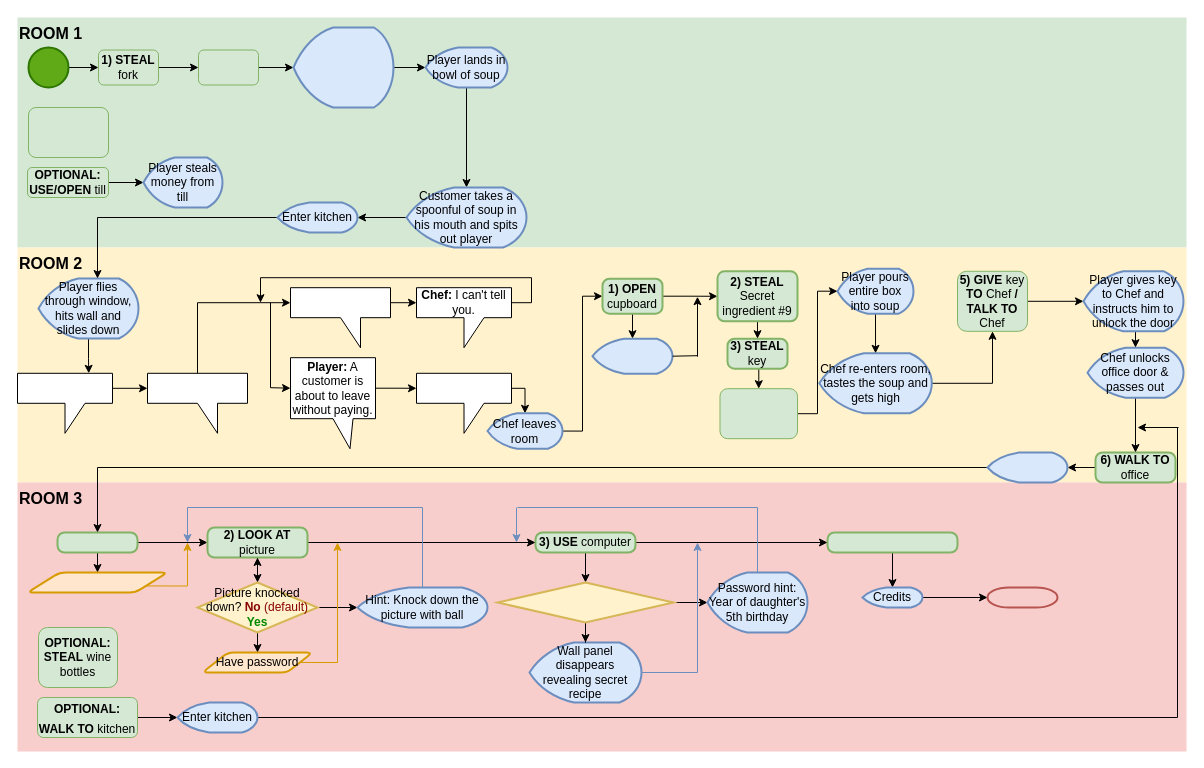
This 1204x768 diagram has some shape labels left out. Each missing label, with the centre of its shape:
"1) USE ball" belongs at [97,542].
"2) USE fork" belongs at [228,67].
"4) STEAL secret recipe" belongs at [892,542].
"4) USE secret ingredient WITH soup" belongs at [758,413].
"Chef: (Tells player to get out)" belongs at [64,402].
"Chef: Not on my watch!" belongs at [464,402].
"Contents are revealed" belongs at [632,355].
"Enter office" belongs at [1027,467].
"Game exit" belongs at [1022,597].
"Game start" belongs at [48,67].
"Got password? No (default) Yes" belongs at [585,602].
"OPTIONAL: TALK TO fish eating soup" belongs at [68,132].
"Picture knocked down" belongs at [97,582].
"Player does a running start and use the fork to jump but misses the window" belongs at [343,67].
"Player: (Refuses and taunts Chef)" belongs at [197,402].
"Player: What is the secret recipe?" belongs at [340,317].
